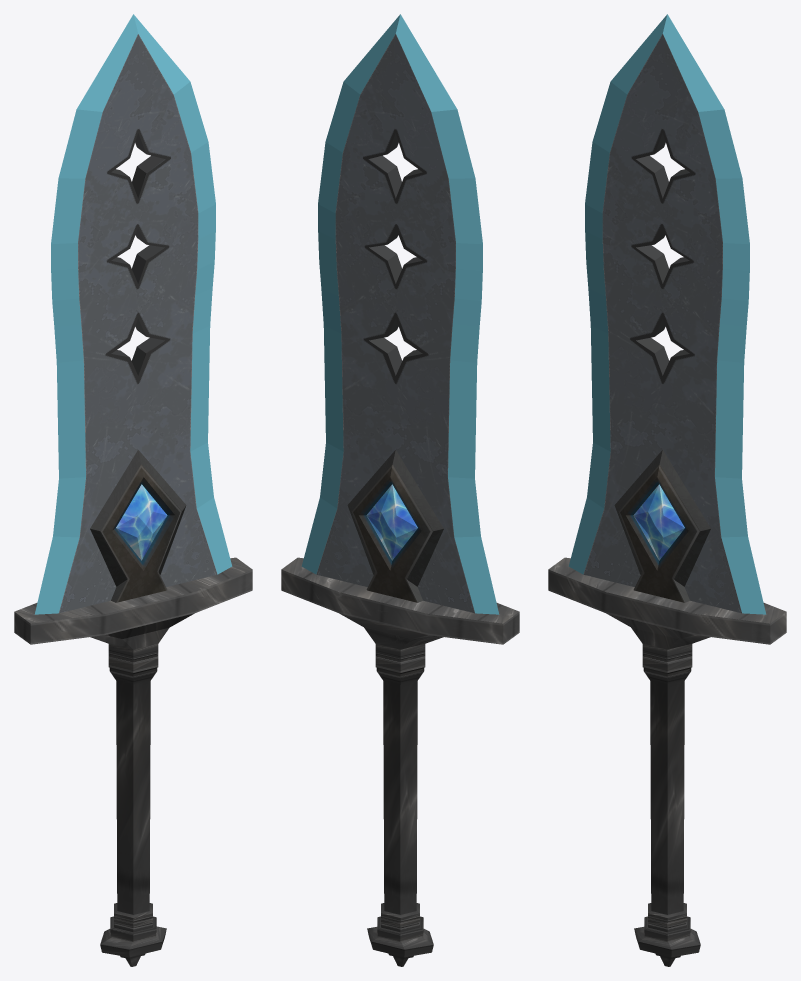
File: Sword.fbx
3 views of the same model, side by side, from view 1: azimuth 30°, elevation 25°; view 2: azimuth 150°, elevation 25°; view 3: azimuth 330°, elevation 25° (orthographic).
Parts seen in each view (by area): view 1: Sword; view 2: Sword; view 3: Sword.
Part boxes in pixels (x1,y1,x2,y2): Sword: [14, 14, 252, 966]; Sword: [281, 14, 519, 966]; Sword: [548, 14, 786, 966].
Bounding box in the file's own units: 0.6072 × 2.49 × 0.1608.
